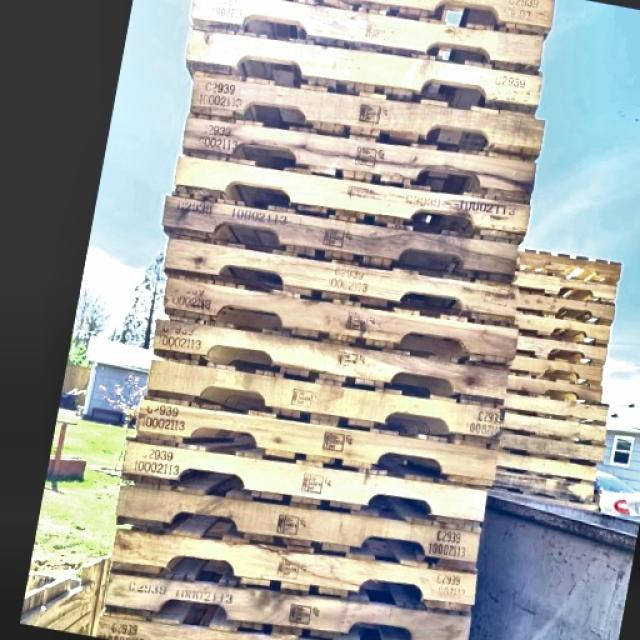non-igps: (154, 178, 524, 296), (150, 266, 526, 381), (130, 382, 507, 496), (115, 428, 495, 540), (173, 100, 545, 214), (111, 472, 489, 584), (164, 142, 538, 254), (103, 514, 483, 622), (146, 306, 516, 416), (138, 349, 511, 458), (179, 15, 549, 123), (184, 62, 553, 170), (180, 0, 551, 89), (96, 563, 478, 640), (173, 0, 563, 48), (85, 593, 337, 640), (488, 420, 610, 468), (494, 402, 610, 452), (508, 240, 626, 288), (488, 459, 599, 510), (506, 263, 621, 311), (508, 301, 614, 352), (491, 441, 603, 488), (497, 385, 612, 430), (506, 284, 618, 329), (502, 366, 606, 412), (512, 324, 610, 372), (503, 348, 607, 392)
